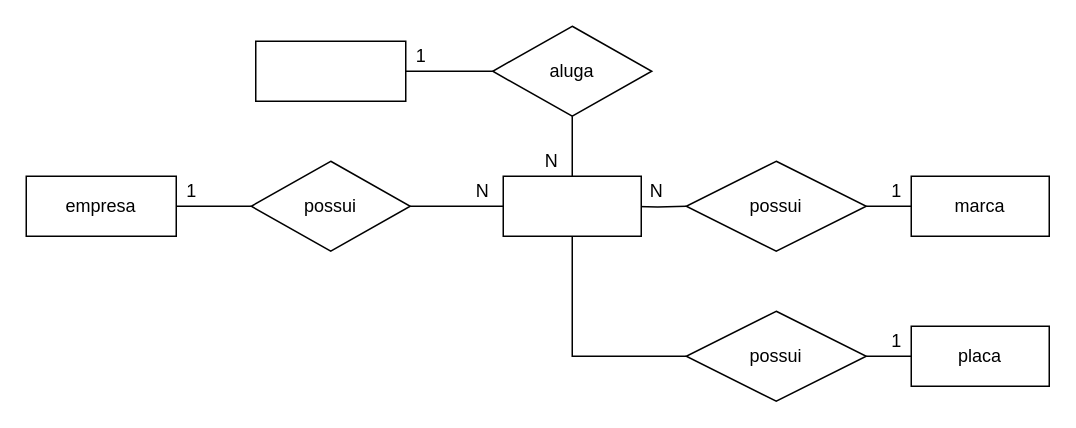
Image size: 1076x428. Some labels were removed from this diagram. Here are the shapes that lost their labels. From the top down, the centre of each, then its label:
[330,70]: cliente
[571,205]: veículos
